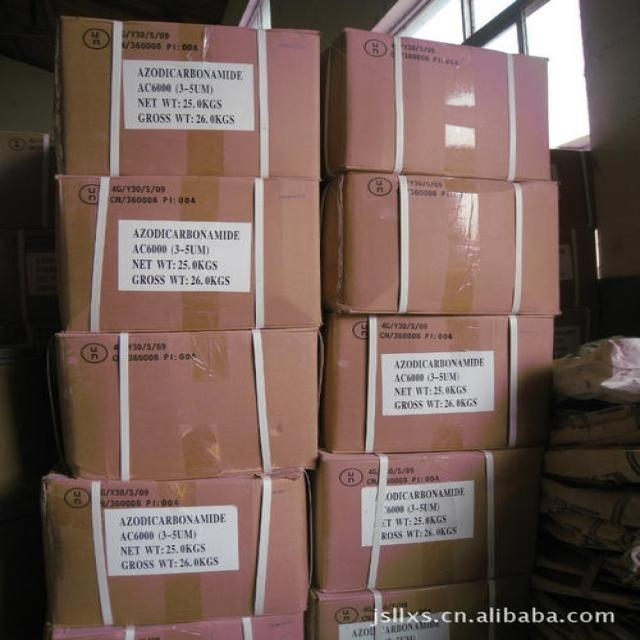box: (50, 14, 320, 179), (41, 463, 314, 626), (55, 174, 323, 333), (49, 329, 325, 479), (319, 27, 553, 180), (320, 306, 553, 454), (321, 171, 561, 314), (312, 447, 543, 593), (306, 574, 529, 640), (0, 342, 60, 475), (49, 612, 307, 640), (0, 227, 61, 344), (0, 130, 58, 228), (552, 148, 595, 226), (559, 226, 599, 306), (553, 305, 596, 358)
